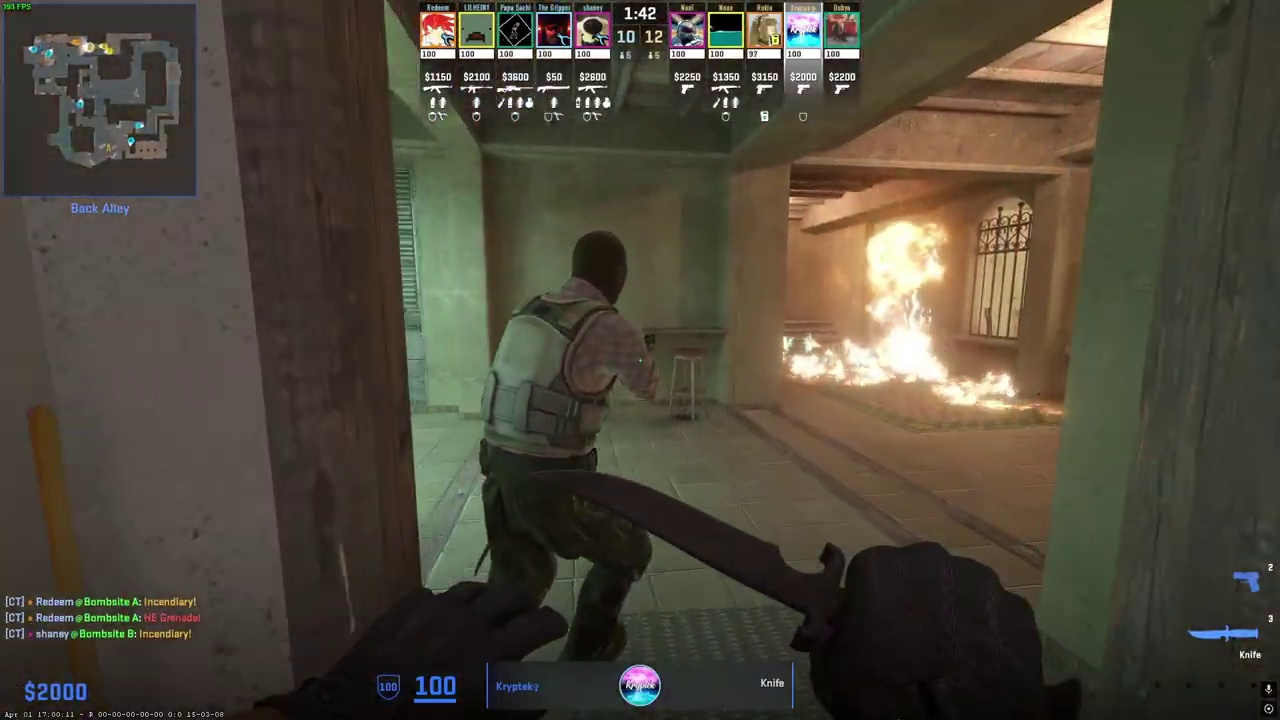Terrorist: (478, 230, 670, 661)
